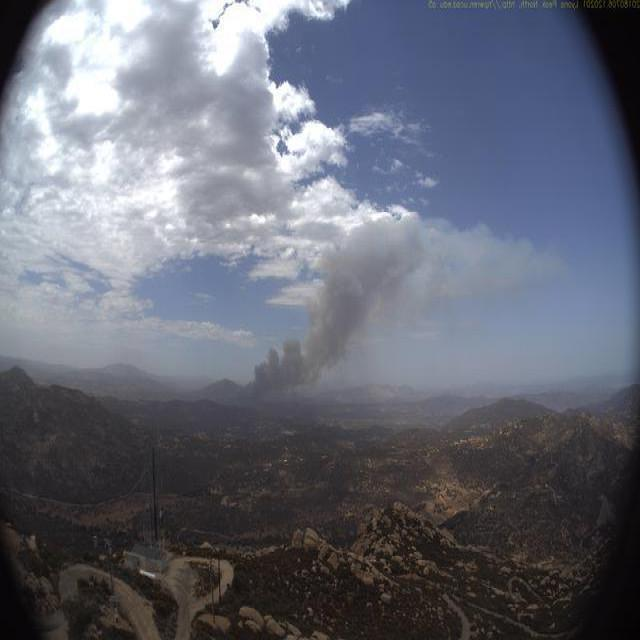Smoke: (222, 206, 501, 418)
